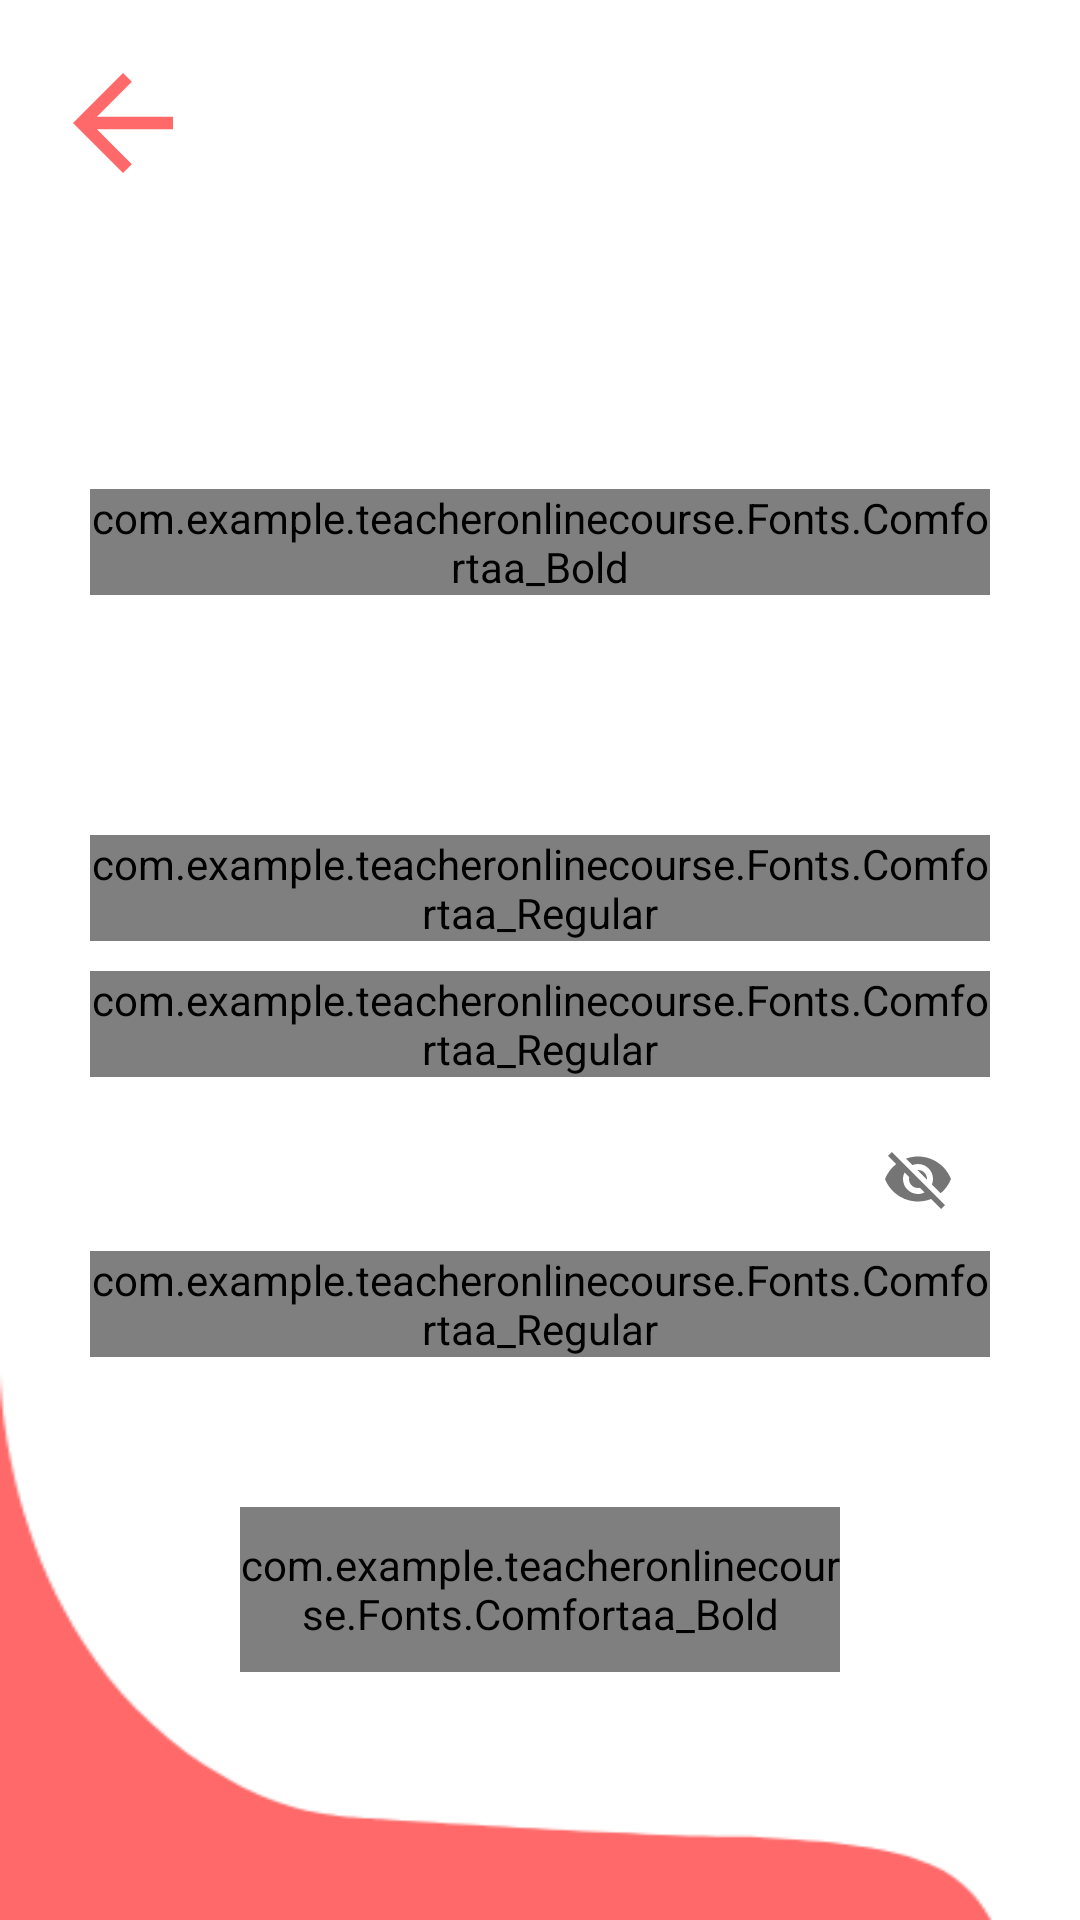

Named icons in this screenshot (1080px×1920px) and their centers, point (x, y):
arrow back: point (123, 123)
